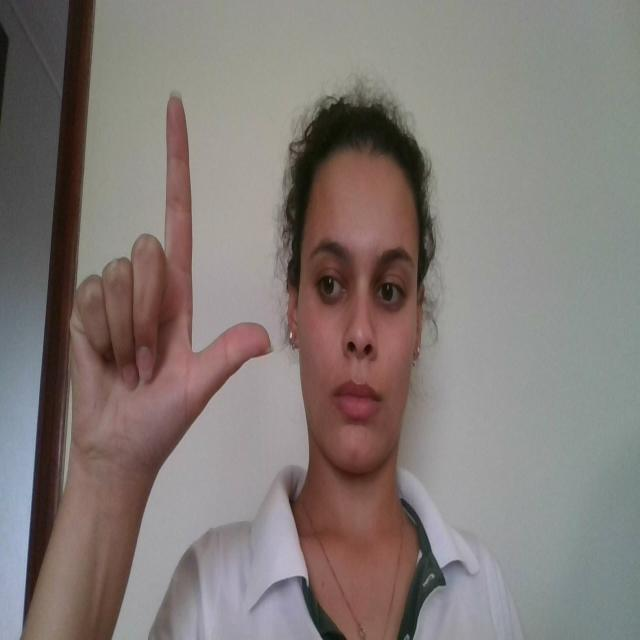L: (66, 91, 277, 471)
